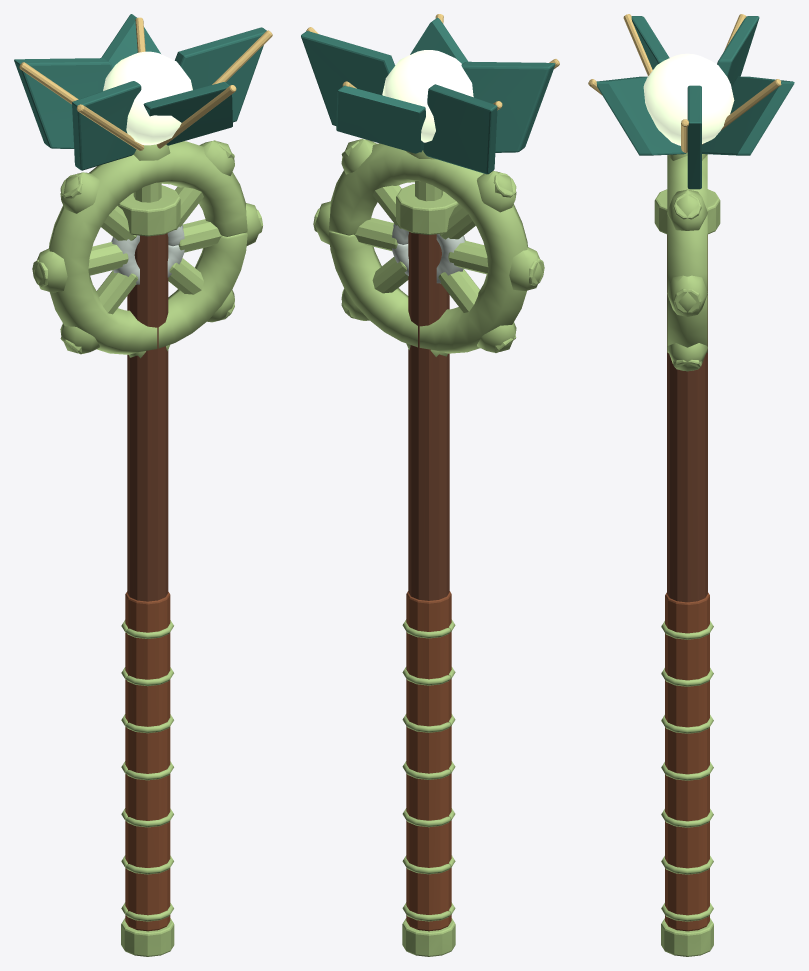
File: item_037.glb
3 renders of one model, left to right at view 1: azimuth 30°, elevation 25°; view 2: azimuth 150°, elevation 25°; view 3: azimuth 270°, elevation 25°, orthographic.
Parts seen in each view (by area): view 1: Item_037_lily_sluice; view 2: Item_037_lily_sluice; view 3: Item_037_lily_sluice.
Boxes of the visible parts, <box> form: Item_037_lily_sluice: <box>14,14,272,956</box>; Item_037_lily_sluice: <box>301,14,559,956</box>; Item_037_lily_sluice: <box>588,14,794,956</box>.
Size of the model in its own units: 0.4654 by 1.67 by 0.3522.
